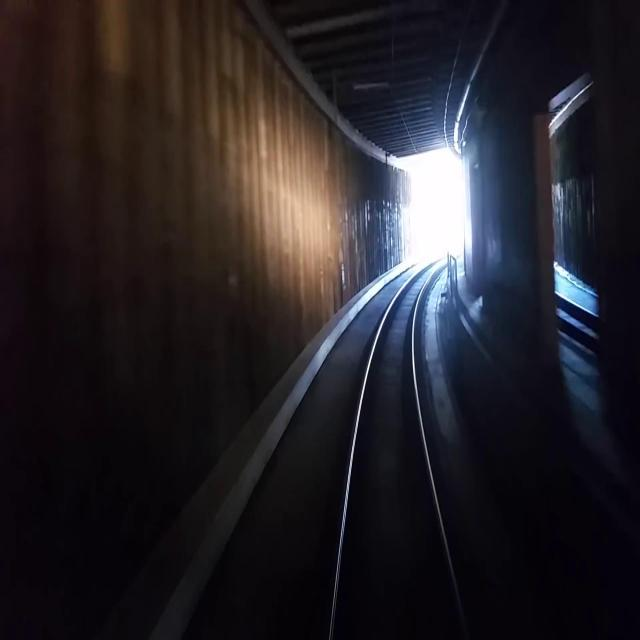rail-track: (333, 256, 467, 639)
